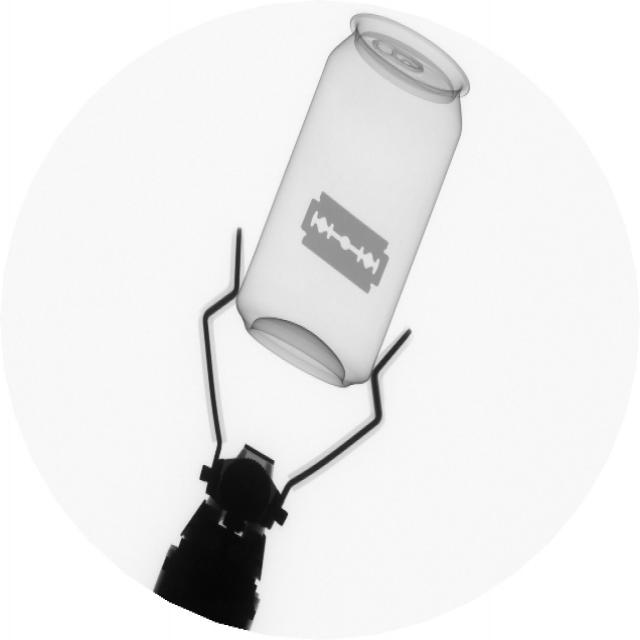BLADE: (298, 186, 395, 303)
